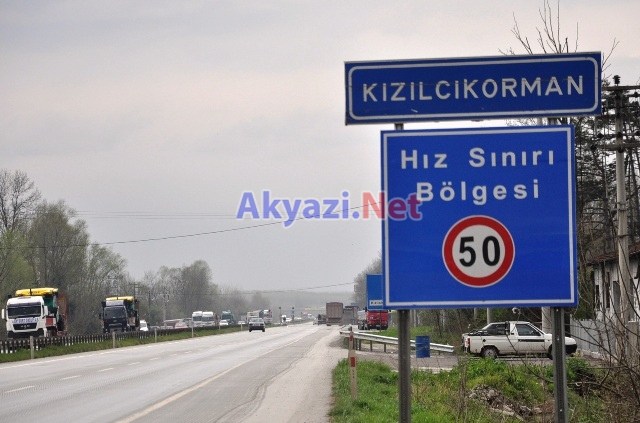50 Km Hiz Siniri: (445, 214, 514, 289)
